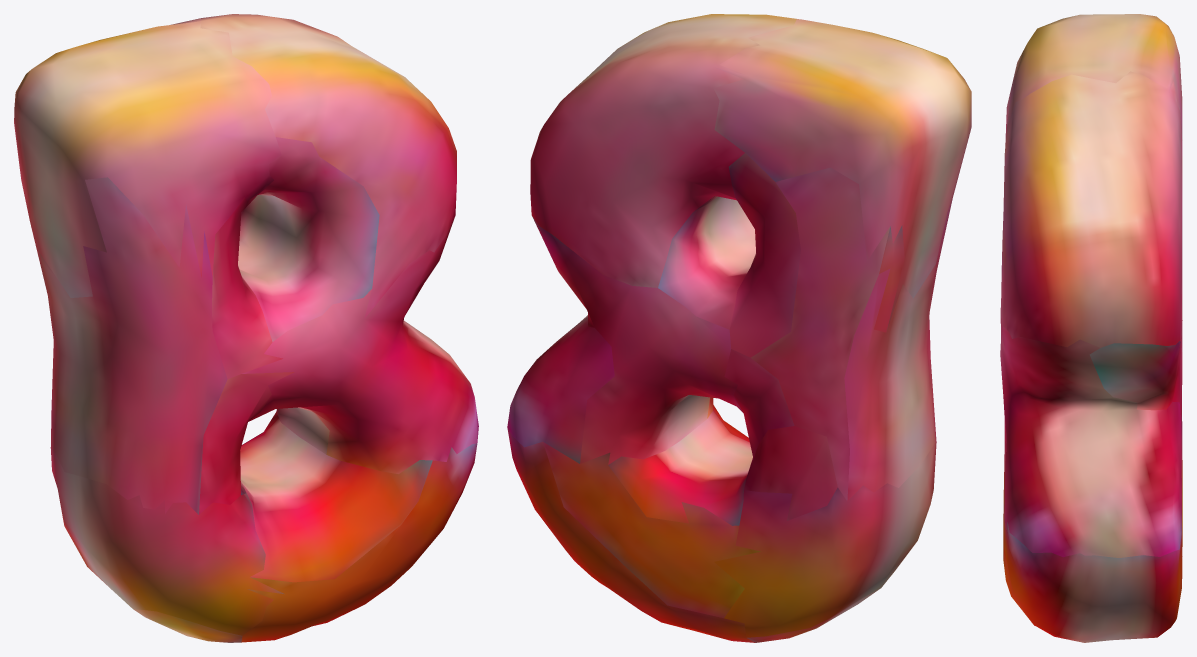
3 views of the same model, side by side, from view 1: azimuth 30°, elevation 25°; view 2: azimuth 150°, elevation 25°; view 3: azimuth 270°, elevation 25° (orthographic). The views are drawn at different scales.
Visible parts, largest first — view 1: Candy-Letter-B; view 2: Candy-Letter-B; view 3: Candy-Letter-B.
Part boxes in pixels (x1,y1,x2,y2): Candy-Letter-B: (14, 14, 478, 642); Candy-Letter-B: (507, 14, 971, 642); Candy-Letter-B: (1000, 14, 1182, 642).
Bounding box in the file's own units: 0.2505 × 0.3433 × 0.1064.
Materials: 1 (1 with a texture image).
